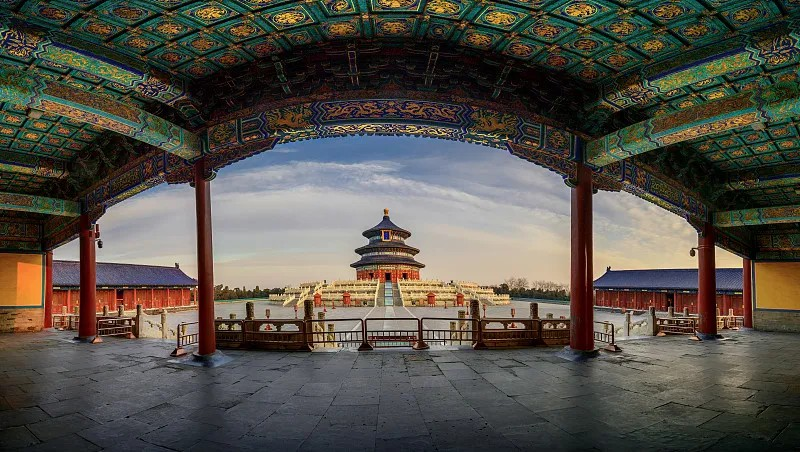Heaven: (349, 207, 426, 280)
